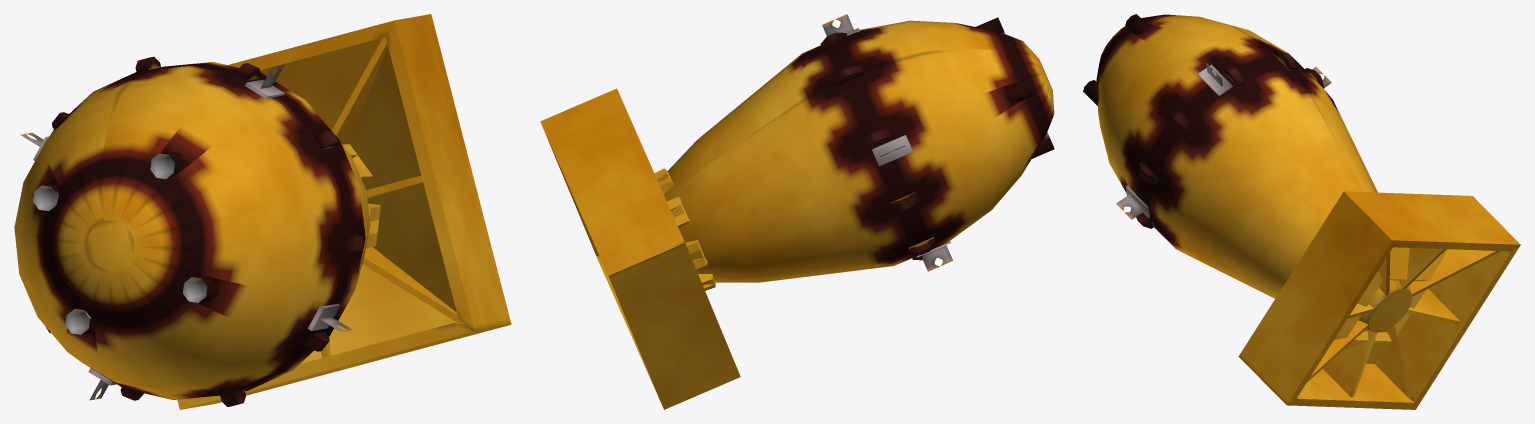
Rendered from fat_man_item.obj.
The picture shows the model from 3 angles, left to right: view 1: azimuth 30°, elevation 25°; view 2: azimuth 150°, elevation 25°; view 3: azimuth 270°, elevation 25°; orthographic projection. The views are drawn at different scales.
Visible parts, largest first — view 1: fatman_Cylinder; view 2: fatman_Cylinder; view 3: fatman_Cylinder.
Boxes of the visible parts, <box> form: fatman_Cylinder: <box>14,14,511,409</box>; fatman_Cylinder: <box>540,14,1054,409</box>; fatman_Cylinder: <box>1083,14,1520,409</box>.
Bounding box in the file's own units: 0.9332 × 0.7724 × 0.9753.
